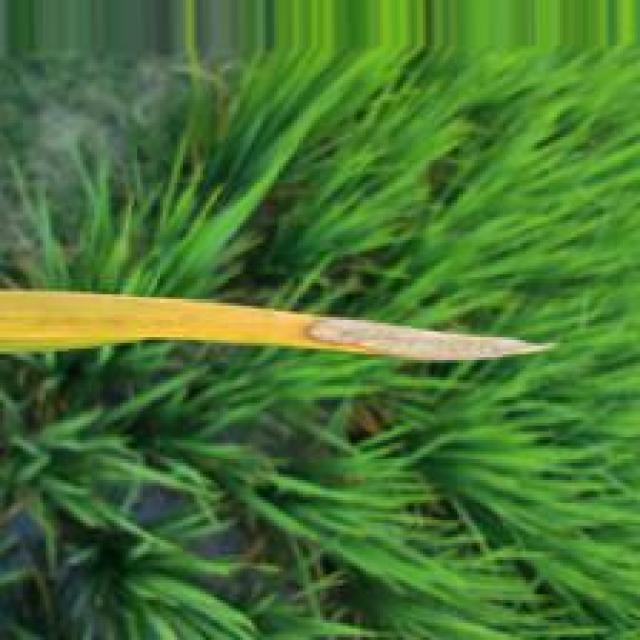Leaf_Scald: (296, 318, 544, 360)
